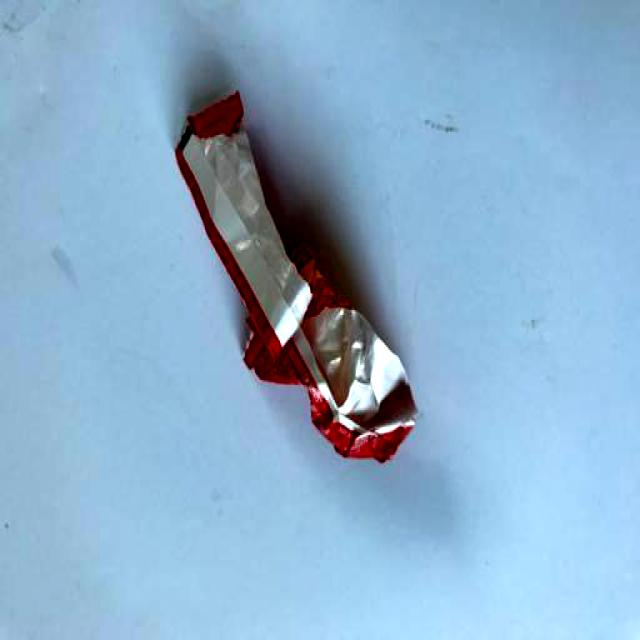Trash: (161, 74, 435, 488)
